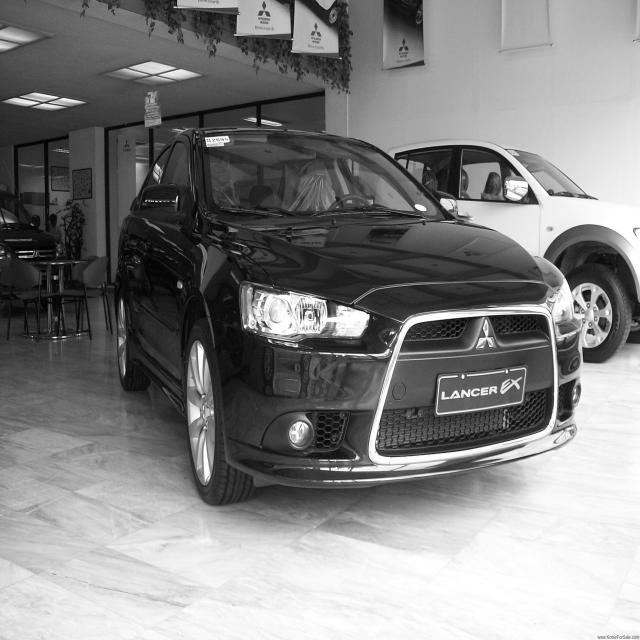car: (113, 125, 584, 506), (364, 139, 640, 363)
plat_license: (434, 364, 527, 417)
